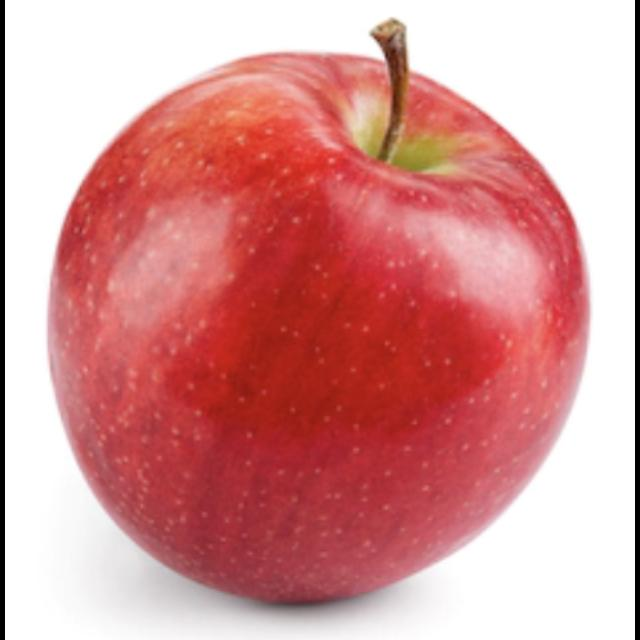Apel Segar: (45, 20, 593, 609)
